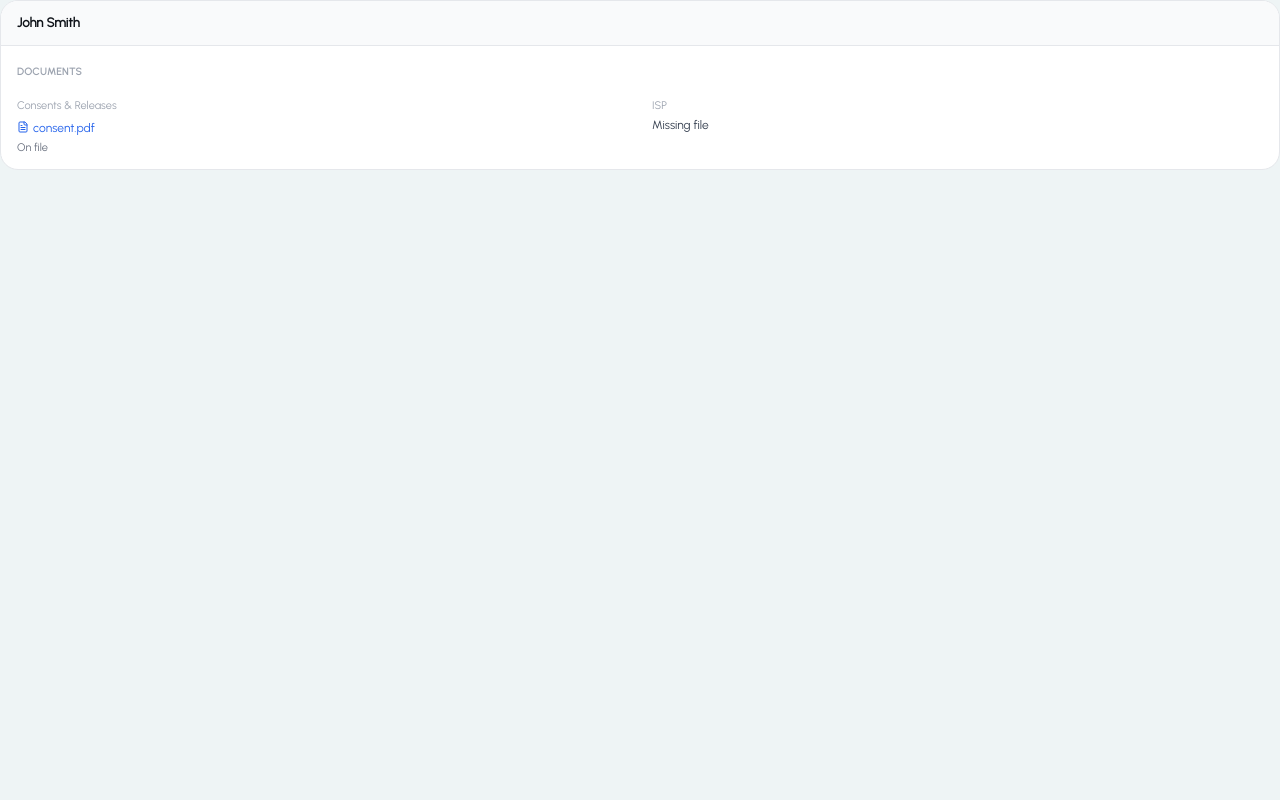
Test: GenericDetailCard documents › finds the file by key when the list moved, and refuses non-web URLs
Click the button with aria-label "Preview Consents & Releases: consent.pdf" at (56, 128), box [17, 119, 95, 137]
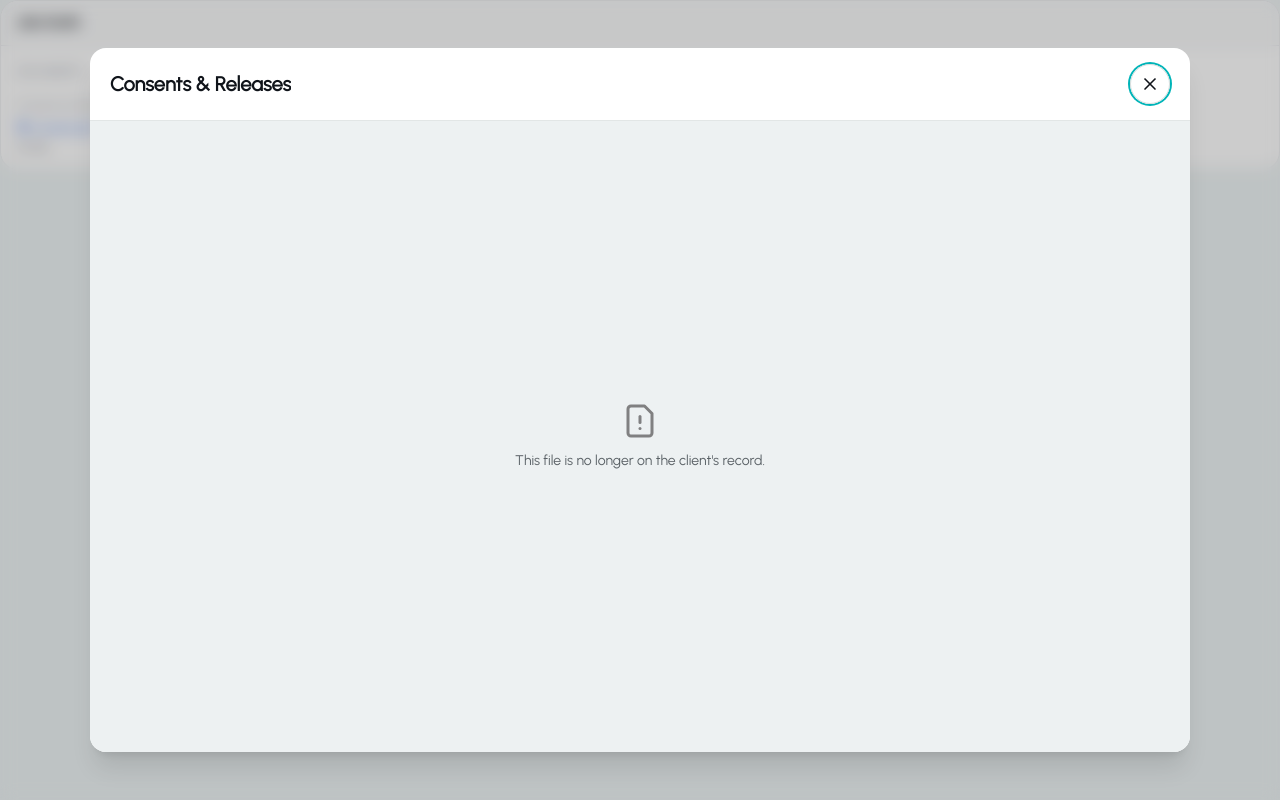
Check: the text "This file is no longer on the client's record." is shown, box [515, 450, 765, 470]
